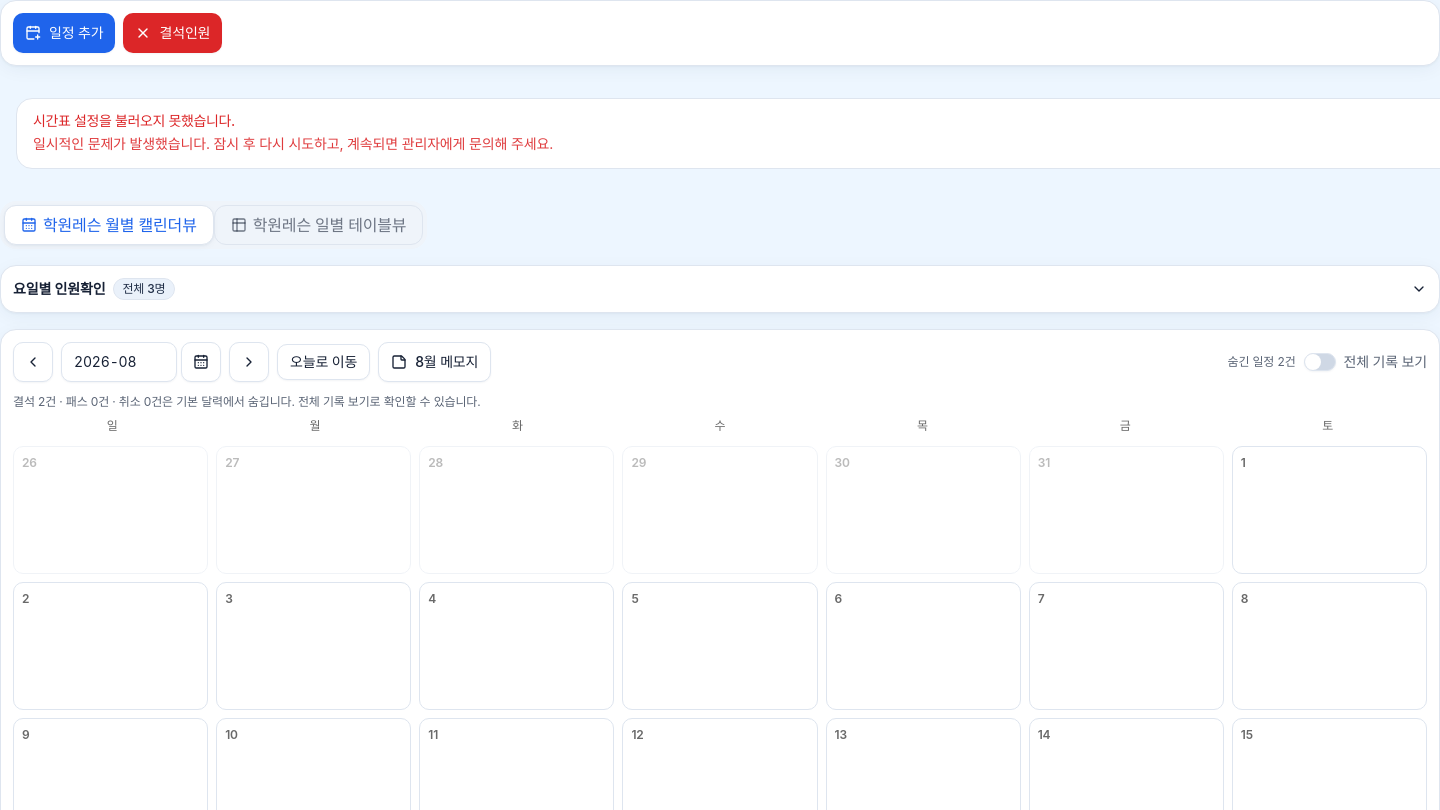
Scenario: 학원 레슨표 서버 연결 › 저장하는 동안 최종확인 버튼을 다시 눌러도 한 번만 보낸다
Click the button "결석인원": [173, 33] box x1=124 y1=13 x2=222 y2=53
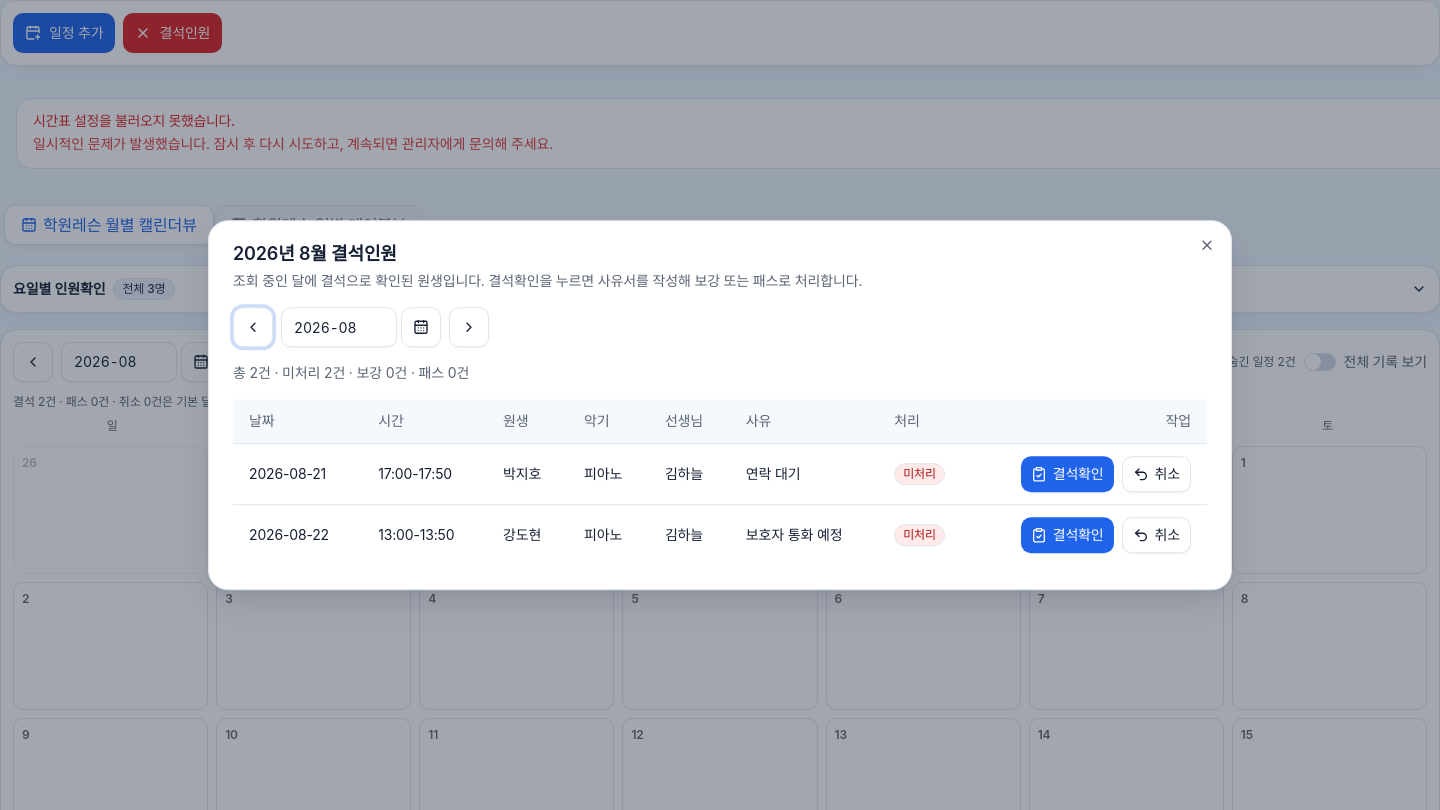
Click the button with aria-label "박지호 결석확인": [1067, 474] box x1=1021 y1=456 x2=1114 y2=492
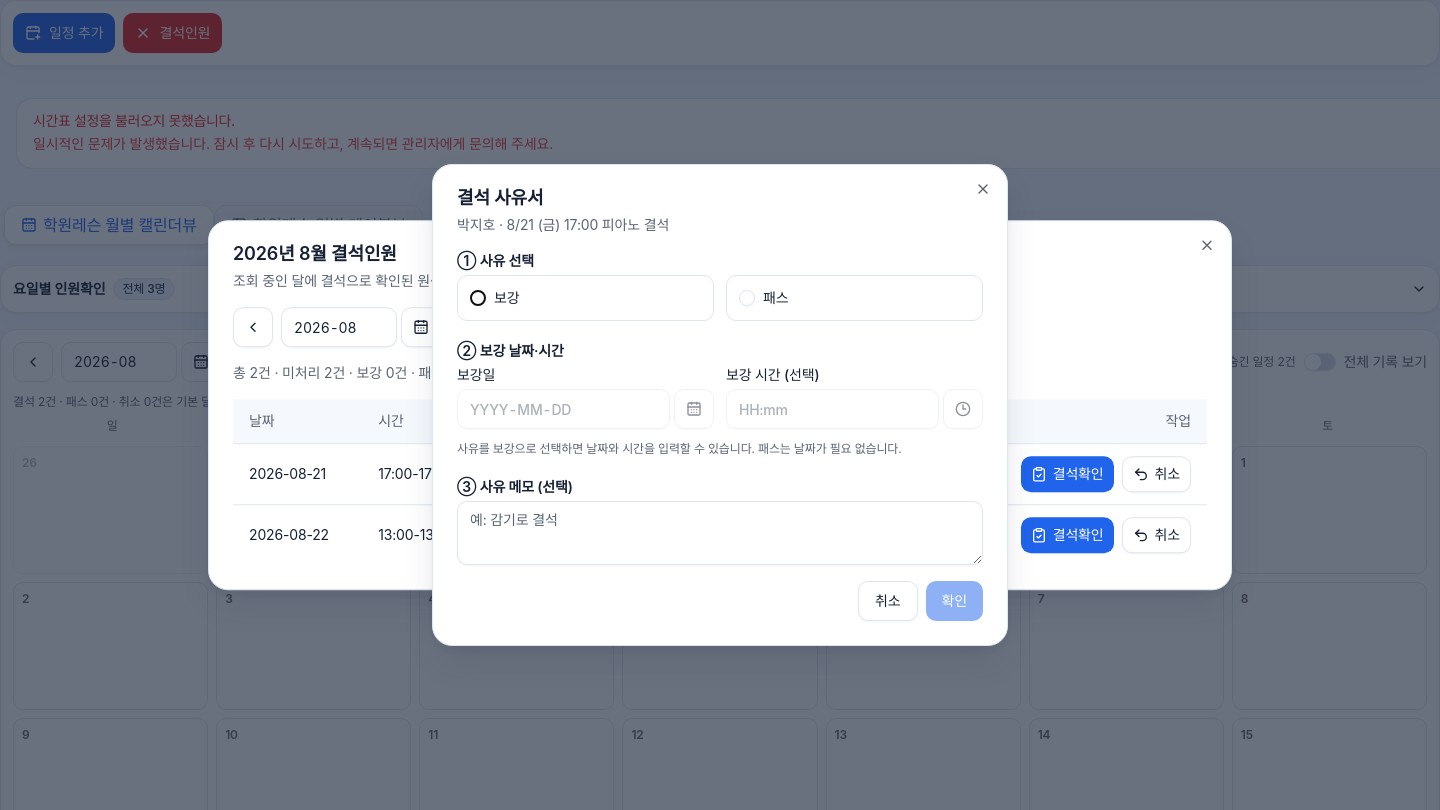
Click the 1st radio button named "보강": [478, 298] box x1=470 y1=290 x2=486 y2=306
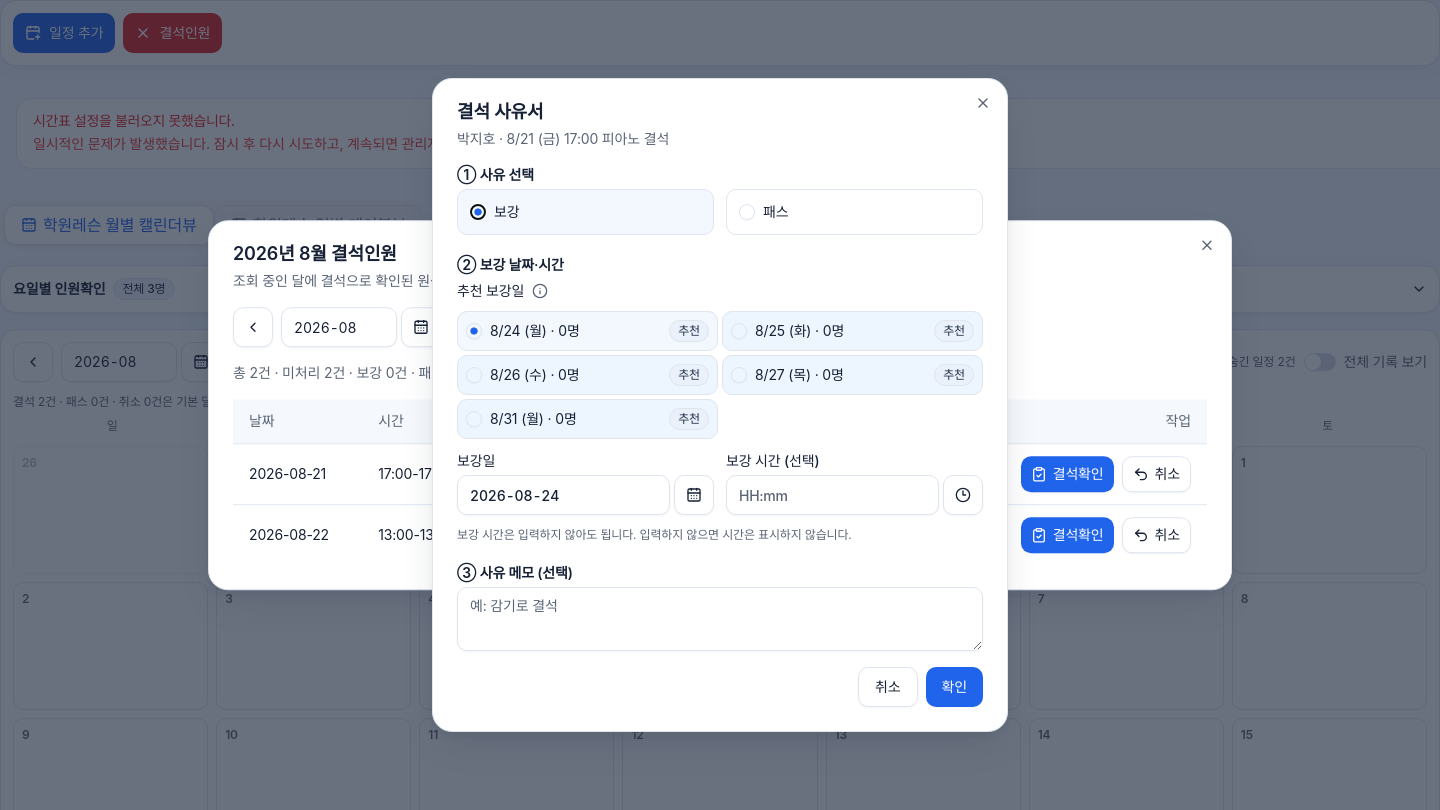
Click the button "확인": [954, 687] box x1=926 y1=667 x2=983 y2=707
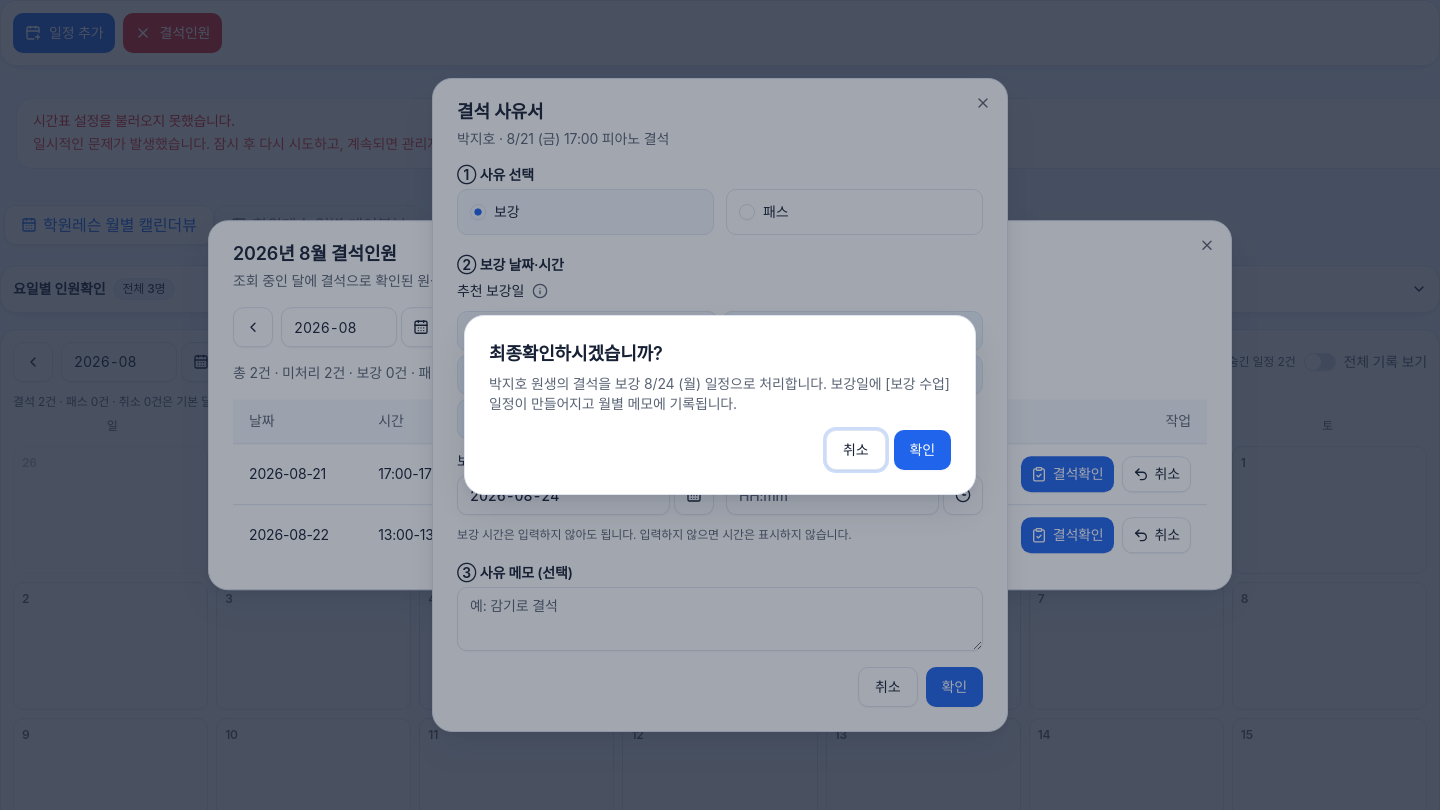
Click the button "확인": [922, 450] box x1=894 y1=430 x2=951 y2=470
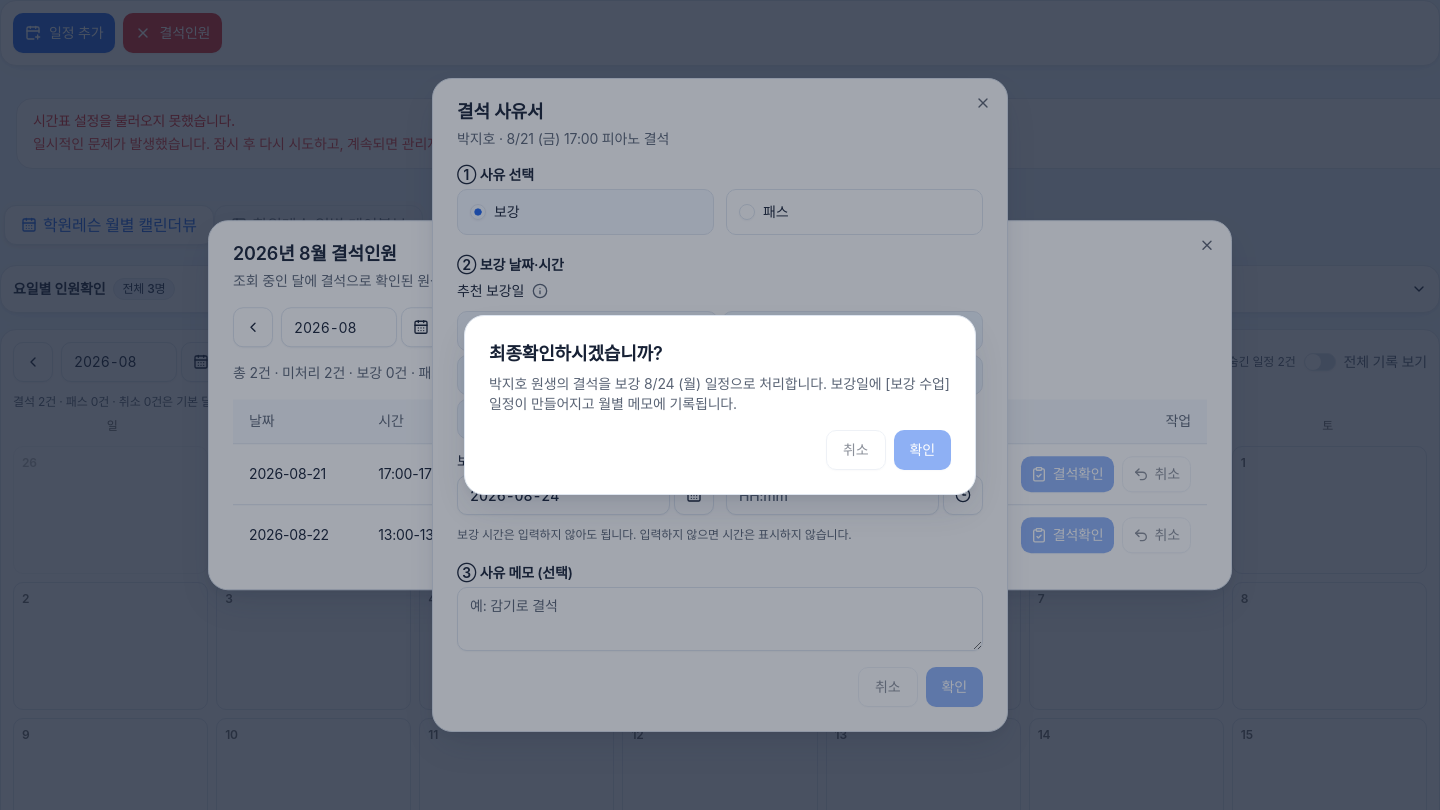
Check: the button "확인" is disabled
Click the button "확인": [922, 450] box x1=894 y1=430 x2=951 y2=470
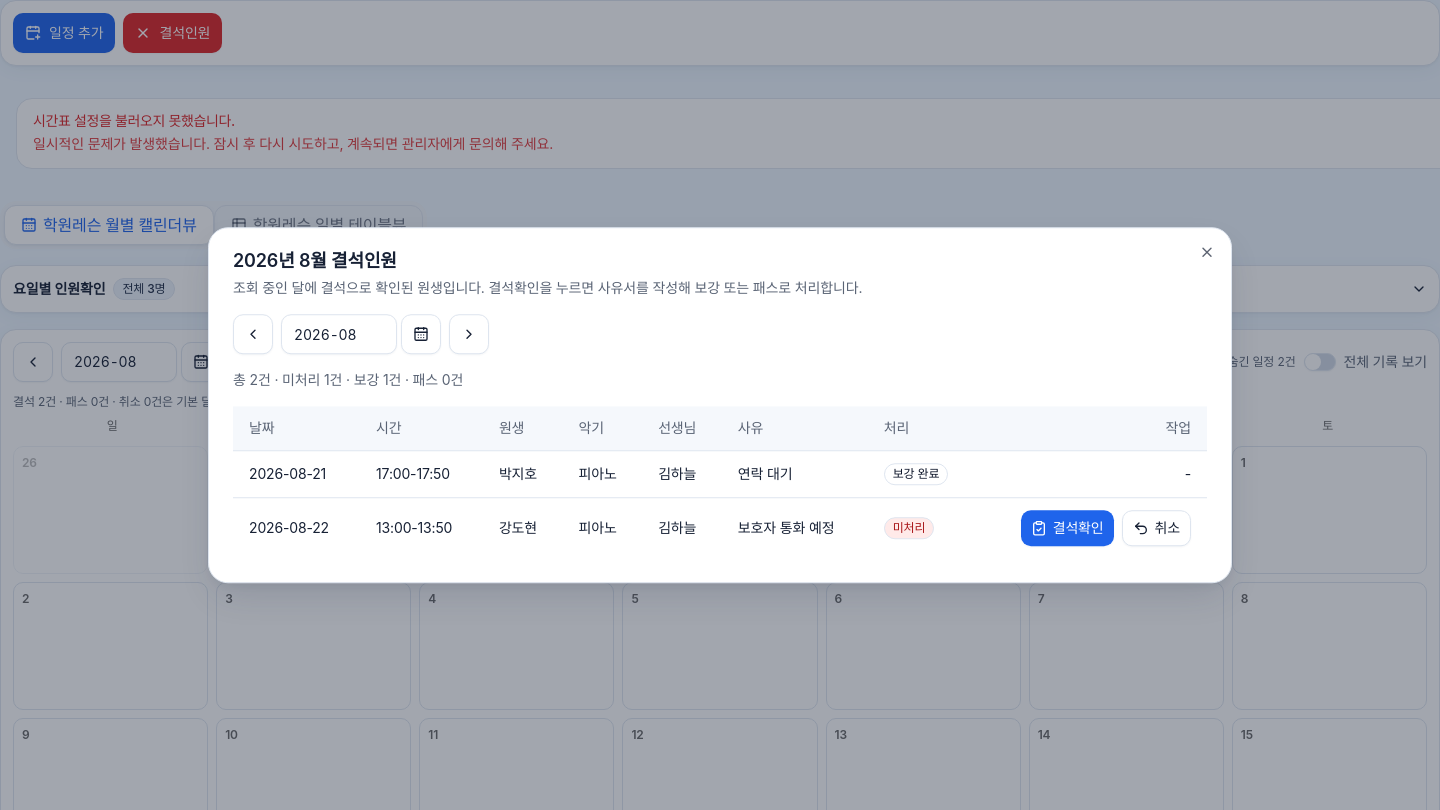
Check: the heading "결석 사유서" is gone
